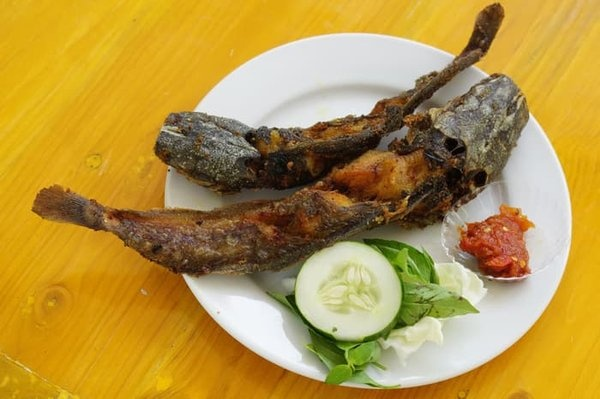pecel_lele: (203, 56, 531, 237), (151, 87, 401, 186)
